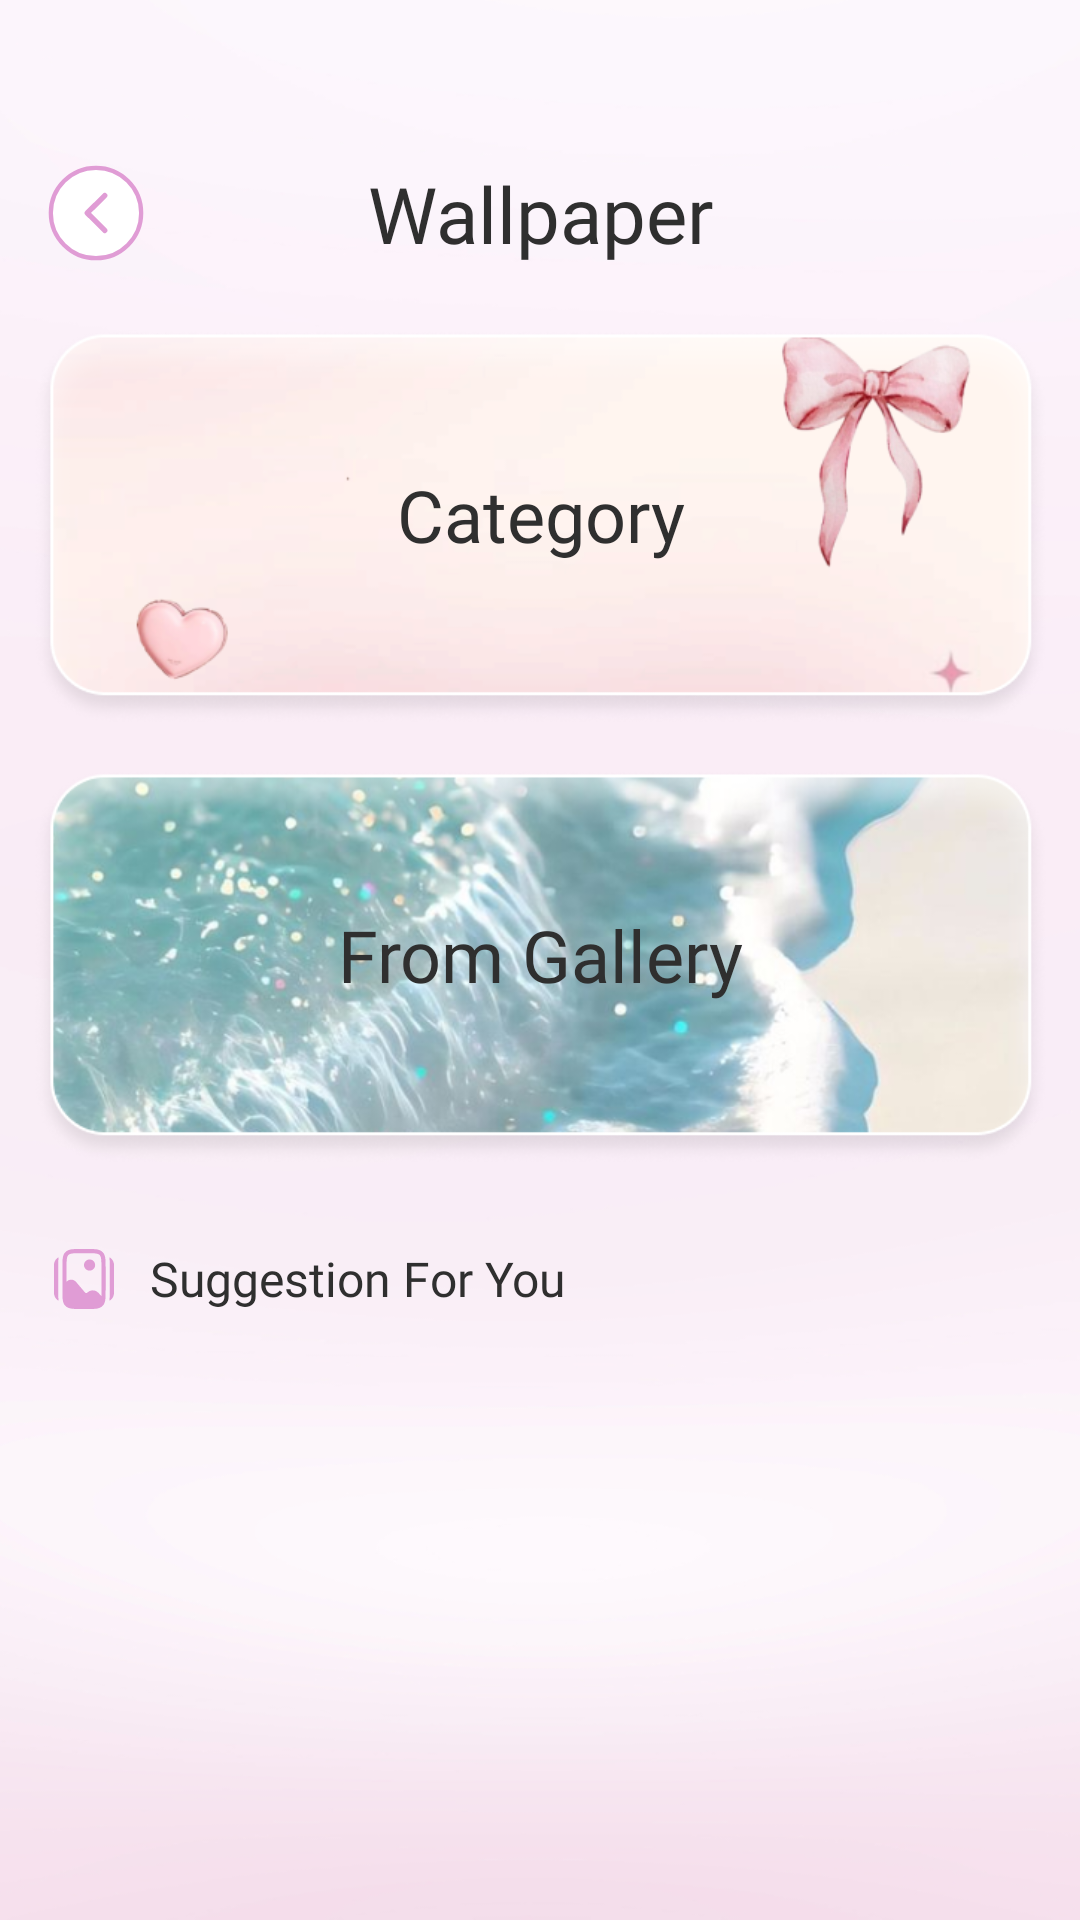

Locate icon controls on the screen. Image size 1080x1920, boxes as (x1, y1, x2, y2).
imv back: (48, 165, 144, 261)
